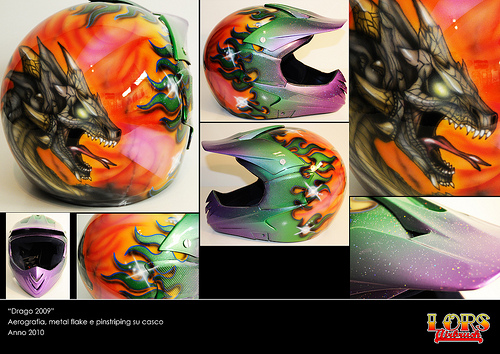helmet: (209, 5, 347, 113), (206, 130, 339, 235), (7, 216, 66, 292)
